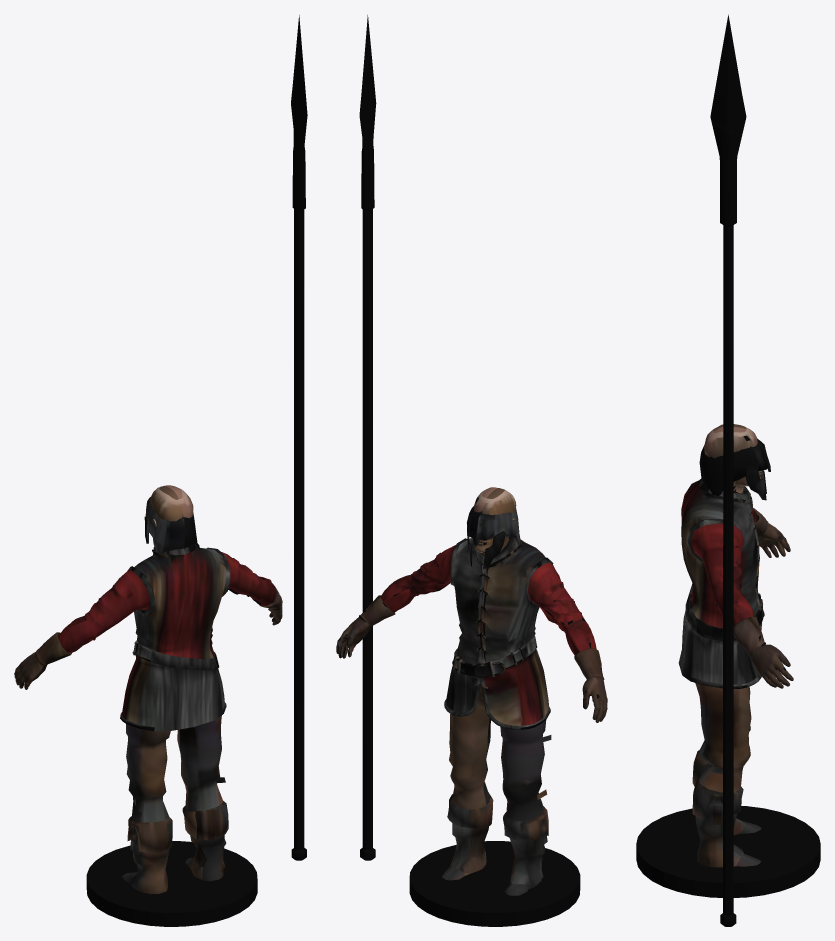
The picture shows the model from 3 angles, left to right: view 1: azimuth 30°, elevation 25°; view 2: azimuth 150°, elevation 25°; view 3: azimuth 270°, elevation 25°; orthographic projection. The views are drawn at different scales.
Visible parts, largest first — view 1: mesh_0; view 2: mesh_0; view 3: mesh_0.
Boxes of the visible parts, left/top/right/bottom form: mesh_0: left=14, top=15, right=307, bottom=926; mesh_0: left=336, top=15, right=607, bottom=926; mesh_0: left=636, top=14, right=820, bottom=926.
Size of the model in its own units: 0.8696 by 2.65 by 0.4861.
1 material, 1 textured.
